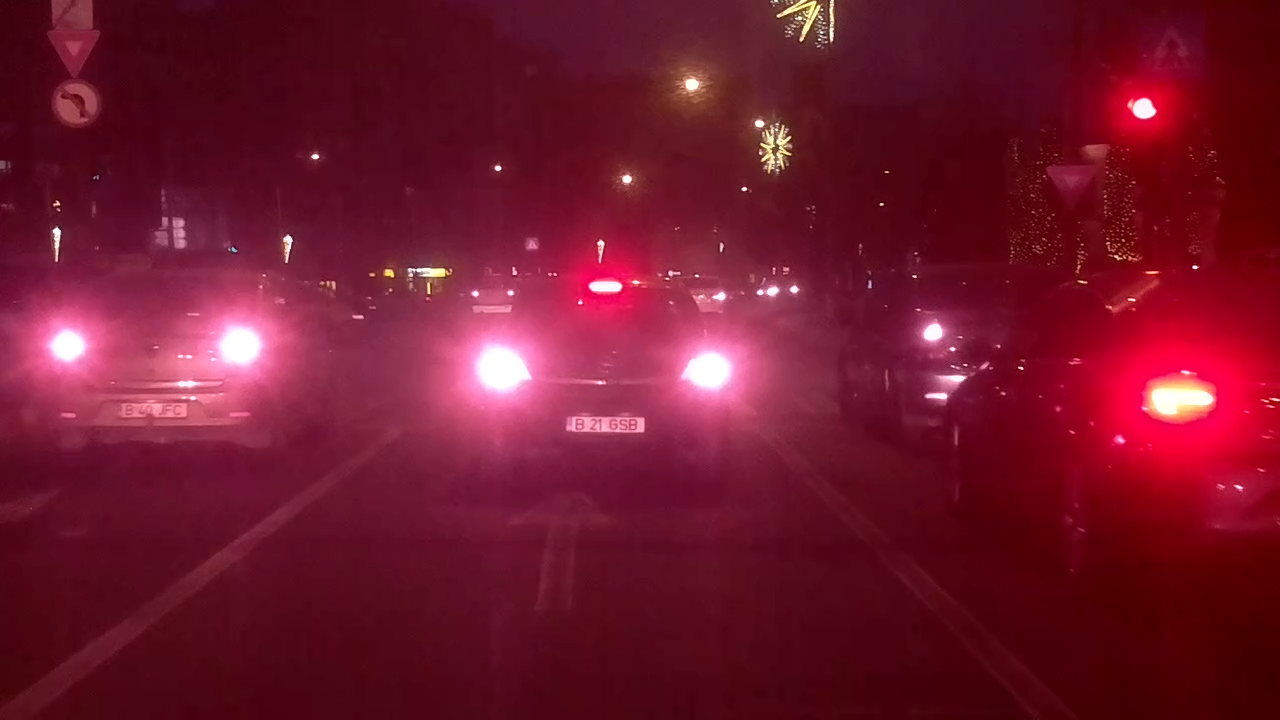license-plate: (562, 413, 649, 436), (113, 399, 192, 420)
